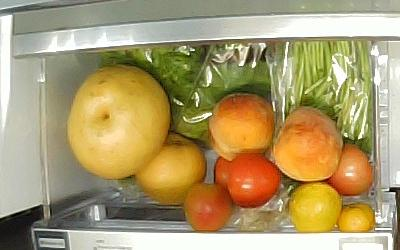peach: (270, 105, 343, 181), (209, 93, 275, 161)
pear: (67, 63, 171, 180), (135, 129, 207, 204)
tangerine: (287, 182, 342, 232), (338, 202, 375, 233)
tomato: (213, 150, 282, 208), (326, 139, 374, 196), (183, 181, 233, 232)
